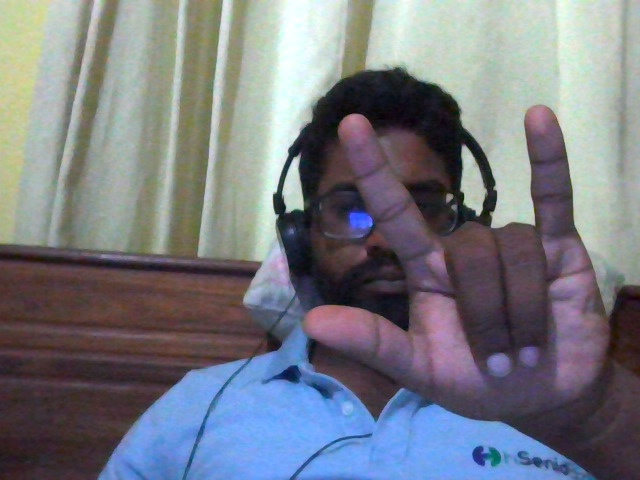I Love You: (285, 82, 632, 452)
